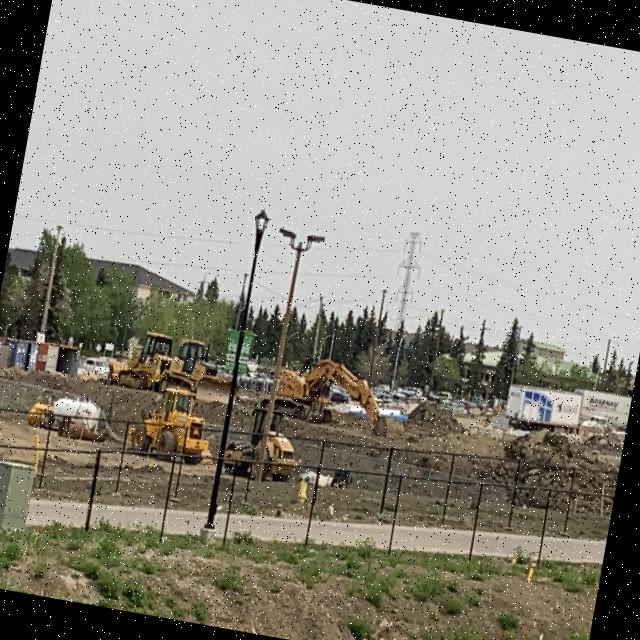Excavator: (266, 349, 399, 436)
Loader: (124, 380, 224, 470)
Roller: (219, 405, 310, 484)
